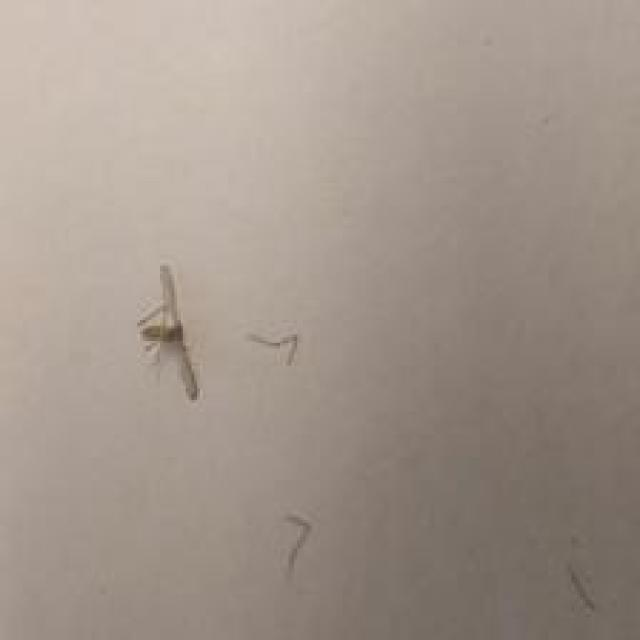Culex: (136, 262, 201, 402)
